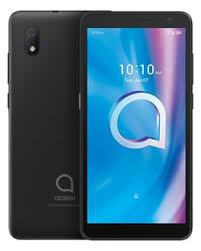Smartphone: (84, 18, 190, 239), (11, 12, 85, 235)
